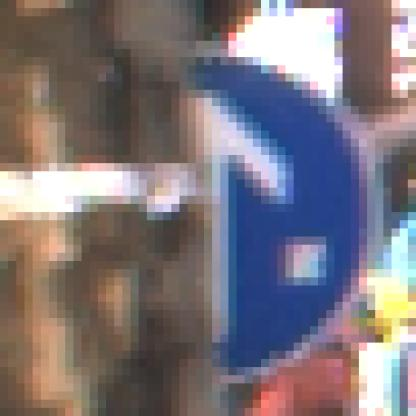AheadOnly: (42, 42, 376, 376)
